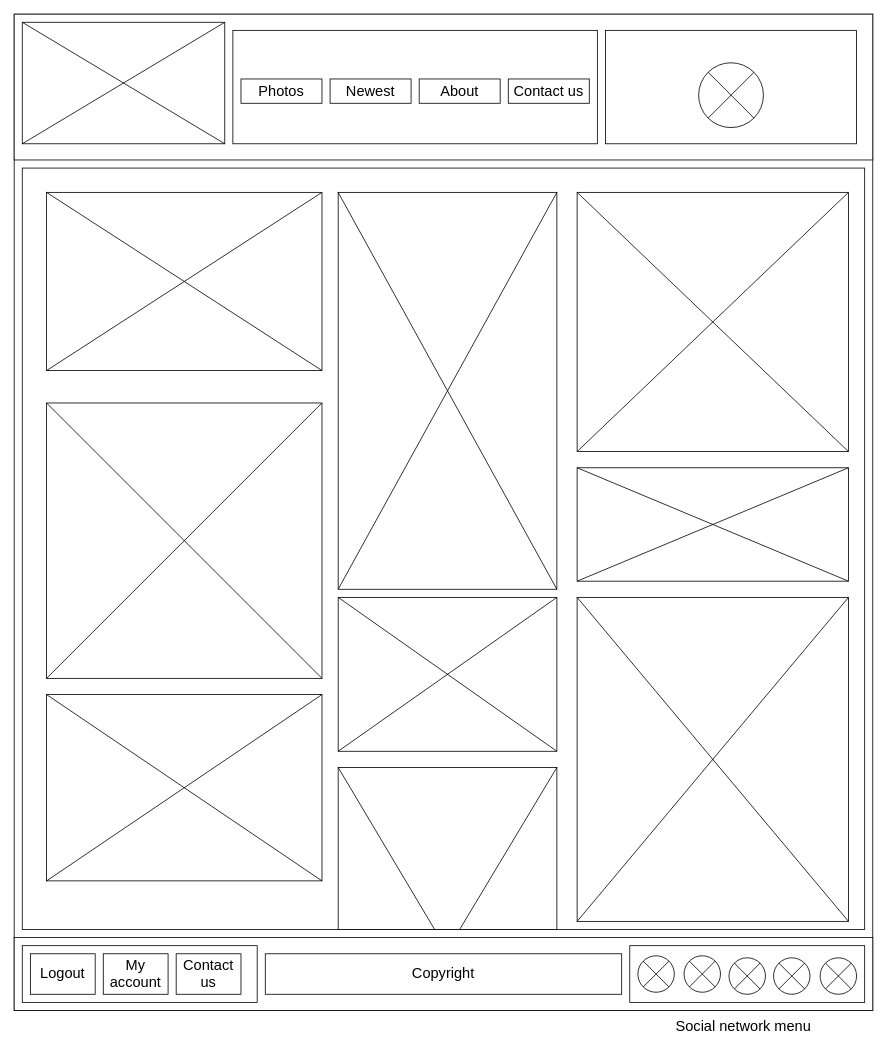
This 887x1057 diagram has some shape labels left out. The shapes that lost their labels are listed below. From the top down, each one's box as (x1, y1, x2, y2) in pixels, then its label:
(21, 21, 225, 144): Logo
(232, 30, 597, 144): Main menu
(605, 30, 857, 144): Account menu
